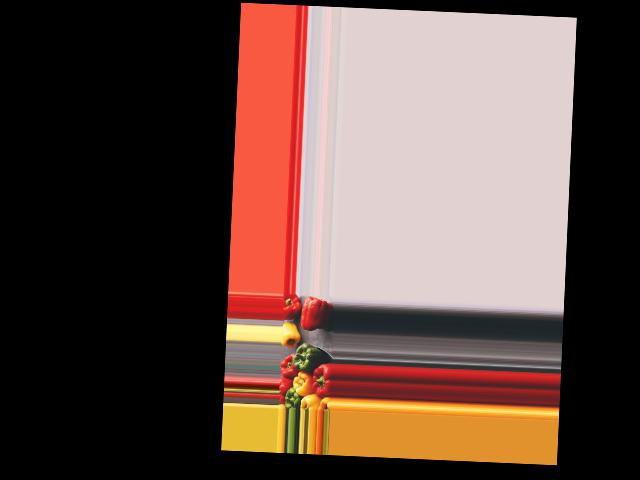bell_pepper: (284, 293, 301, 320)
